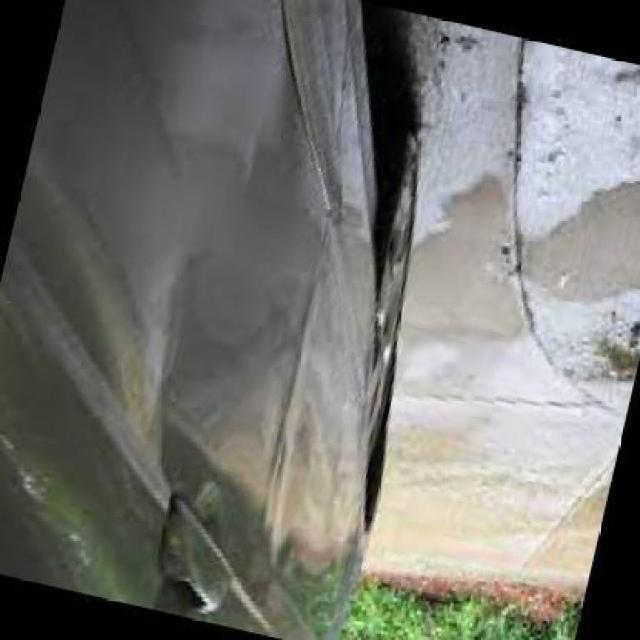dent: (157, 175, 292, 552)
